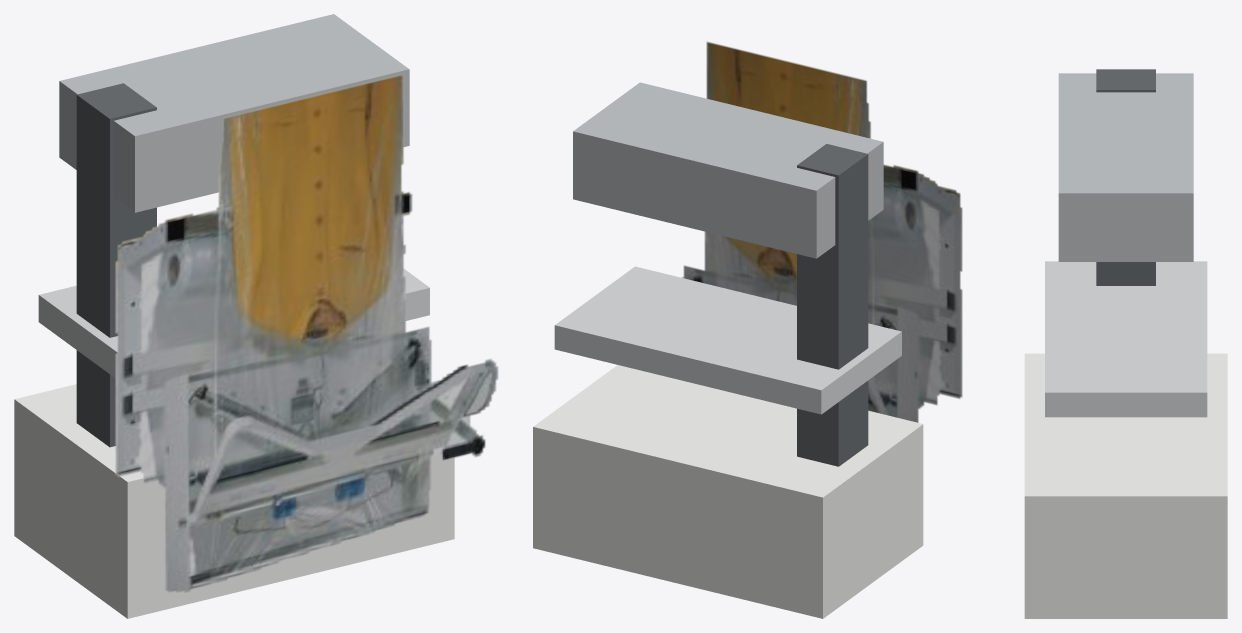
File: garment-packaging-machine.glb
3 views of the same model, side by side, from view 1: azimuth 30°, elevation 25°; view 2: azimuth 150°, elevation 25°; view 3: azimuth 270°, elevation 25° (orthographic). The views are drawn at different scales.
Parts seen in each view (by area): view 1: front_decal, base, head, mast, table; view 2: base, front_decal, head, table, mast; view 3: base, head, table, mast.
Boxes of the visible parts, left/top/right/bottom form: front_decal: left=115, top=74, right=498, bottom=593; base: left=14, top=384, right=454, bottom=618; head: left=59, top=14, right=409, bottom=212; mast: left=76, top=83, right=156, bottom=447; table: left=38, top=268, right=429, bottom=378; base: left=533, top=365, right=923, bottom=618; front_decal: left=682, top=41, right=962, bottom=422; head: left=573, top=82, right=883, bottom=258; table: left=554, top=266, right=901, bottom=414; mast: left=797, top=144, right=868, bottom=466; base: left=1024, top=353, right=1227, bottom=618; head: left=1058, top=73, right=1193, bottom=261; table: left=1045, top=261, right=1207, bottom=417; mast: left=1096, top=69, right=1155, bottom=285.
Bounding box in the file's own units: 1.51 × 1.83 × 0.855.
Materials: 5 (1 with a texture image).
